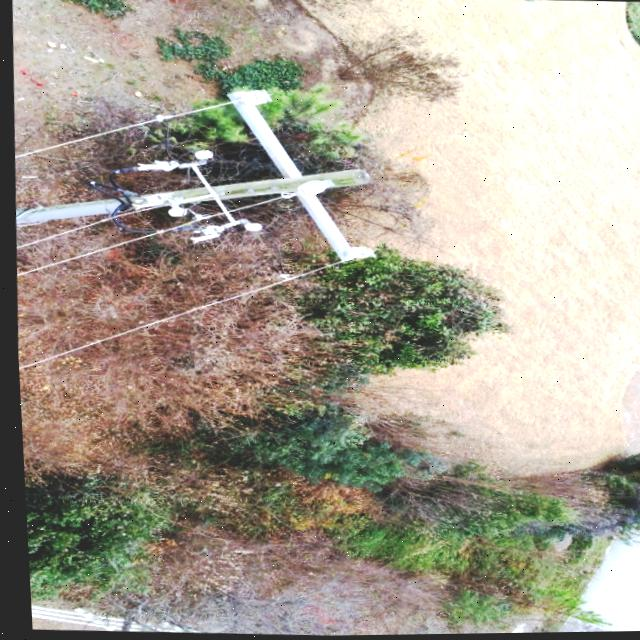poles: (160, 91, 370, 262), (13, 199, 117, 224)
wires: (15, 262, 340, 369), (12, 91, 269, 158), (13, 227, 174, 276), (237, 189, 301, 209), (97, 217, 112, 221)
